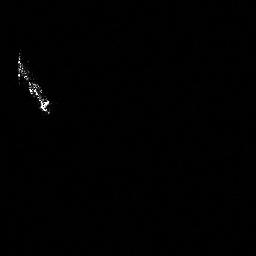ship: (11, 46, 55, 117)
